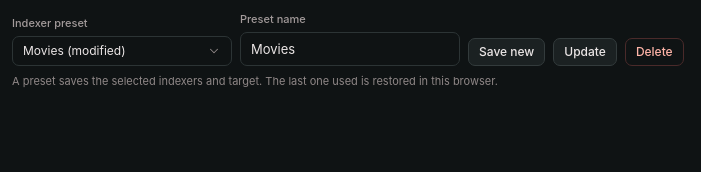
Test case: restores a remembered preset and saves changed selections
Click the button "Update" at (585, 52), box [553,38,617,66]
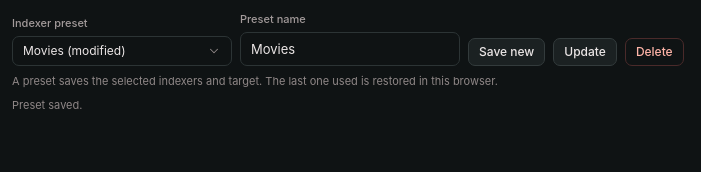
expect the text "Preset saved." is shown: met, box [12,98,82,112]
